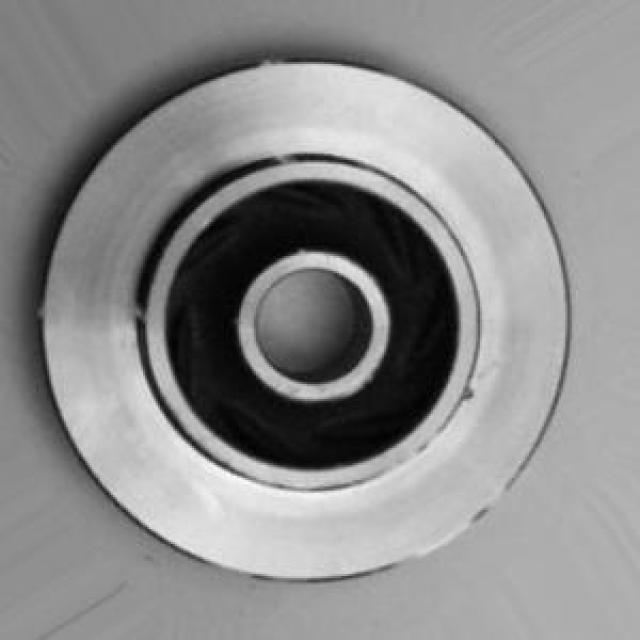Defect: (451, 367, 484, 414)
